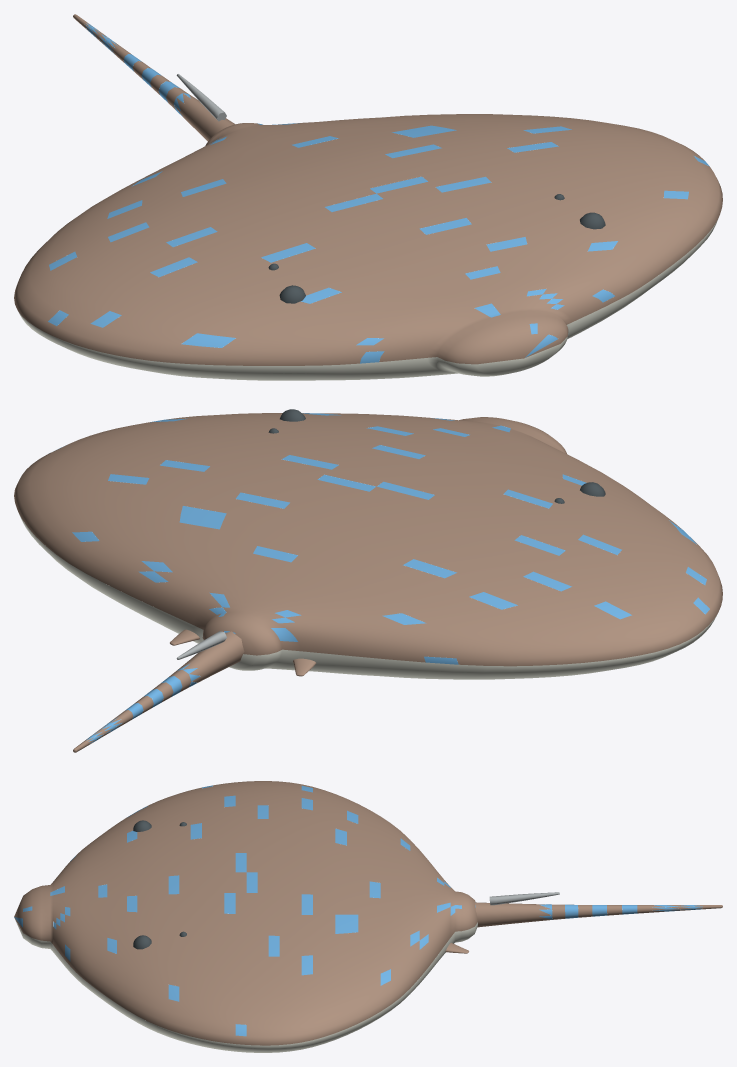
File: rope_bridge.glb
3 views of the same model, one above another, from view 1: azimuth 30°, elevation 25°; view 2: azimuth 150°, elevation 25°; view 3: azimuth 270°, elevation 25° (orthographic). The views are drawn at different scales.
Parts seen in each view (by area): view 1: bluespotted-stingray; view 2: bluespotted-stingray; view 3: bluespotted-stingray.
Part boxes in pixels (x1,y1,x2,y2): bluespotted-stingray: (14,14,722,380); bluespotted-stingray: (14,409,722,752); bluespotted-stingray: (14,781,722,1052).
Size of the model in its own units: 0.7723 by 0.1252 by 0.9.
